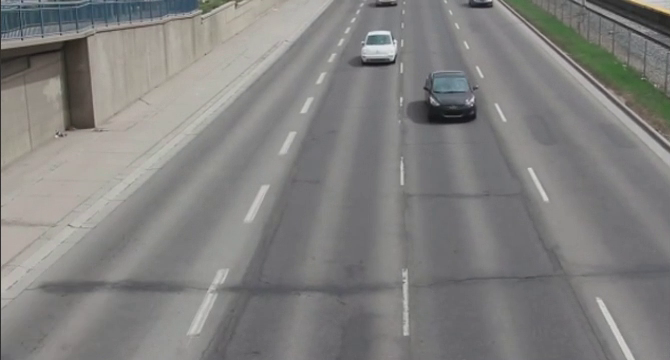car: (419, 72, 481, 123), (356, 23, 402, 70)
